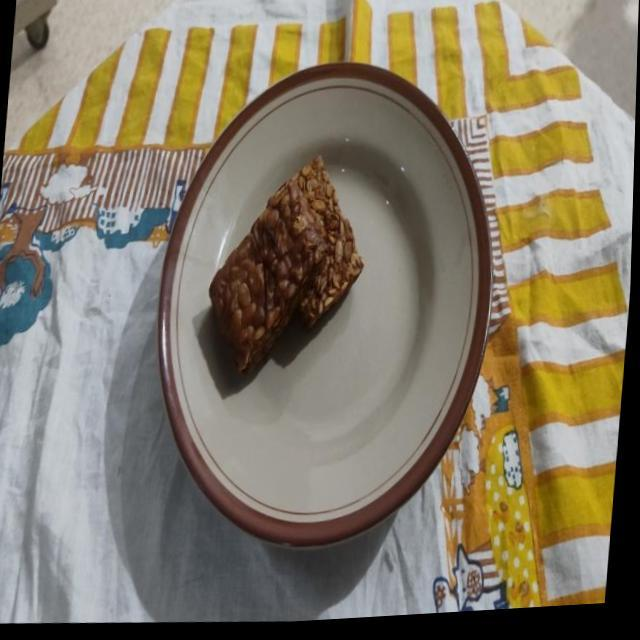tempe_goreng: (208, 183, 330, 379), (276, 156, 364, 328)
